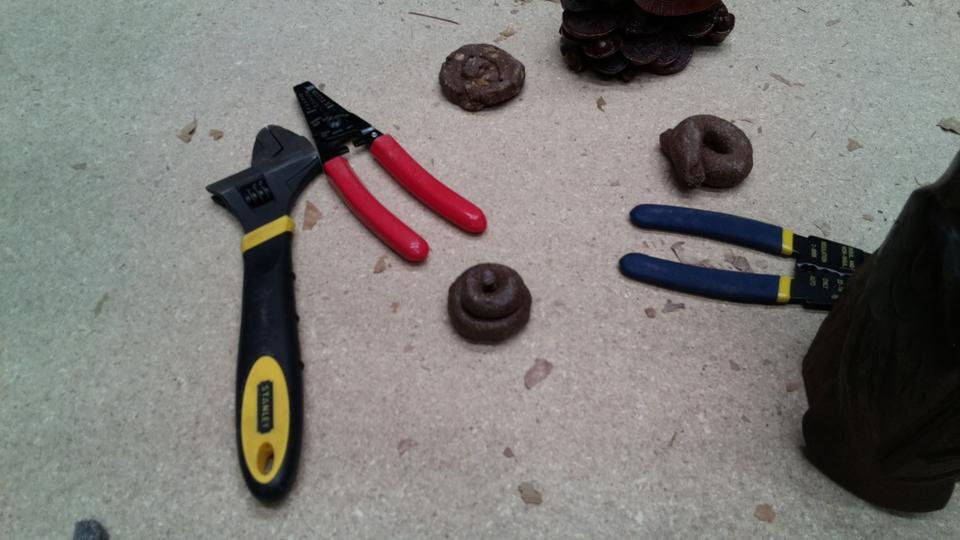poop: (657, 110, 756, 197), (443, 259, 535, 348), (436, 39, 529, 116)
